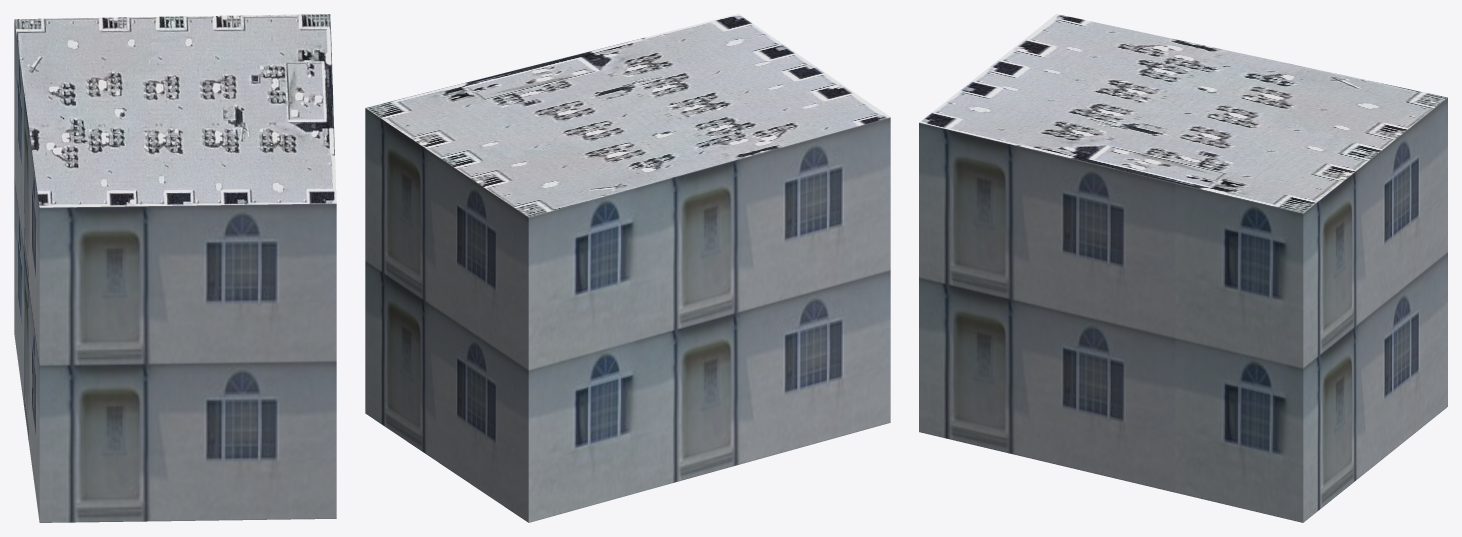
Rendered from ResTex__4050.fbx.
3 views of the same model, side by side, from view 1: azimuth 30°, elevation 25°; view 2: azimuth 150°, elevation 25°; view 3: azimuth 270°, elevation 25° (orthographic). The views are drawn at different scales.
Visible parts, largest first — view 1: CityEngineMaterial_17_m, CityEngineMaterial_m; view 2: CityEngineMaterial_17_m, CityEngineMaterial_m; view 3: CityEngineMaterial_17_m, CityEngineMaterial_m.
Part boxes in pixels (bbox=[...]): CityEngineMaterial_17_m: bbox=[14, 20, 336, 522]; CityEngineMaterial_m: bbox=[14, 14, 336, 207]; CityEngineMaterial_17_m: bbox=[365, 108, 890, 522]; CityEngineMaterial_m: bbox=[366, 14, 890, 217]; CityEngineMaterial_17_m: bbox=[919, 97, 1447, 522]; CityEngineMaterial_m: bbox=[919, 14, 1447, 213].
Size of the model in its own units: 8.3 by 6 by 9.29.
2 materials, 2 textured.
